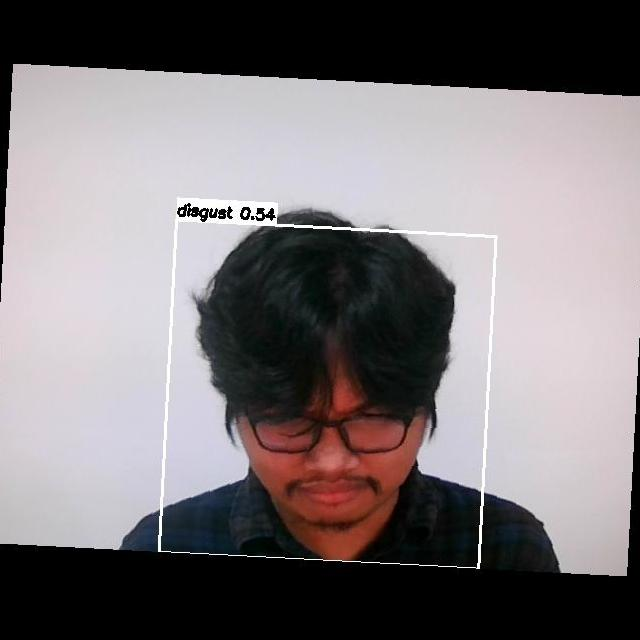Disgust: (236, 378, 424, 533)
